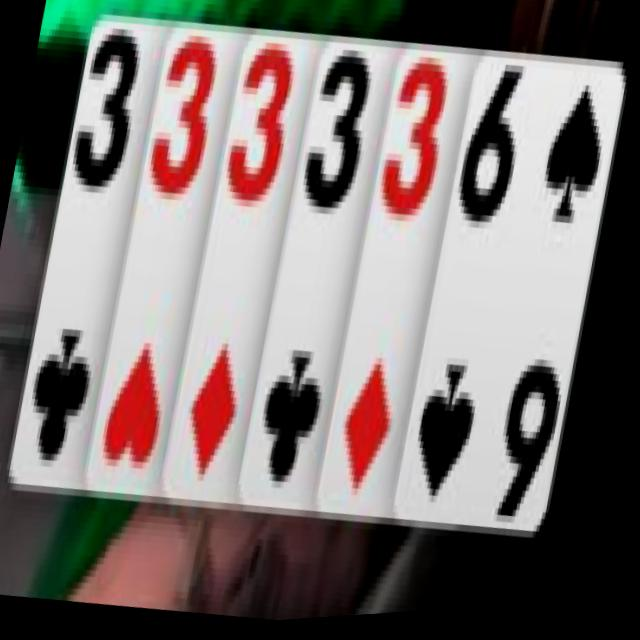Card-3: (240, 35, 401, 518), (88, 23, 247, 508), (160, 36, 324, 504), (321, 45, 480, 526), (10, 15, 171, 489)
Card-6: (397, 60, 626, 538)
